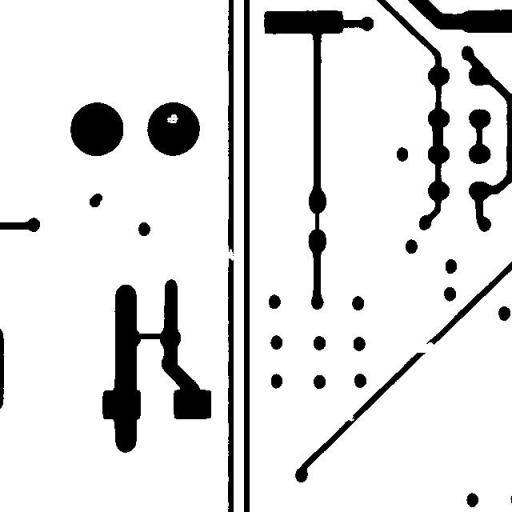copper: (82, 186, 110, 214)
mousebite: (340, 407, 362, 429)
open: (402, 334, 444, 360), (218, 241, 240, 268)
pin-hole: (159, 106, 186, 130)
short: (129, 326, 173, 346), (308, 202, 326, 240)
spur: (424, 114, 450, 164)
